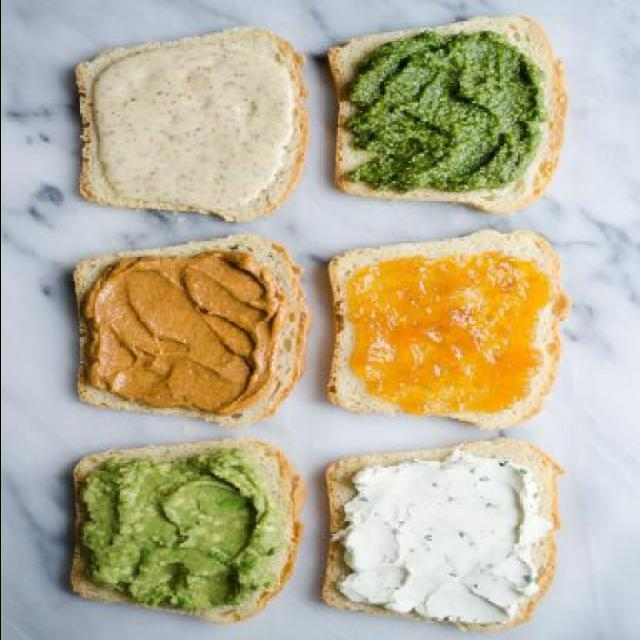Spread: (332, 450, 546, 624), (84, 251, 290, 418), (74, 450, 286, 612), (344, 253, 550, 418), (94, 42, 292, 210), (342, 30, 544, 192)
